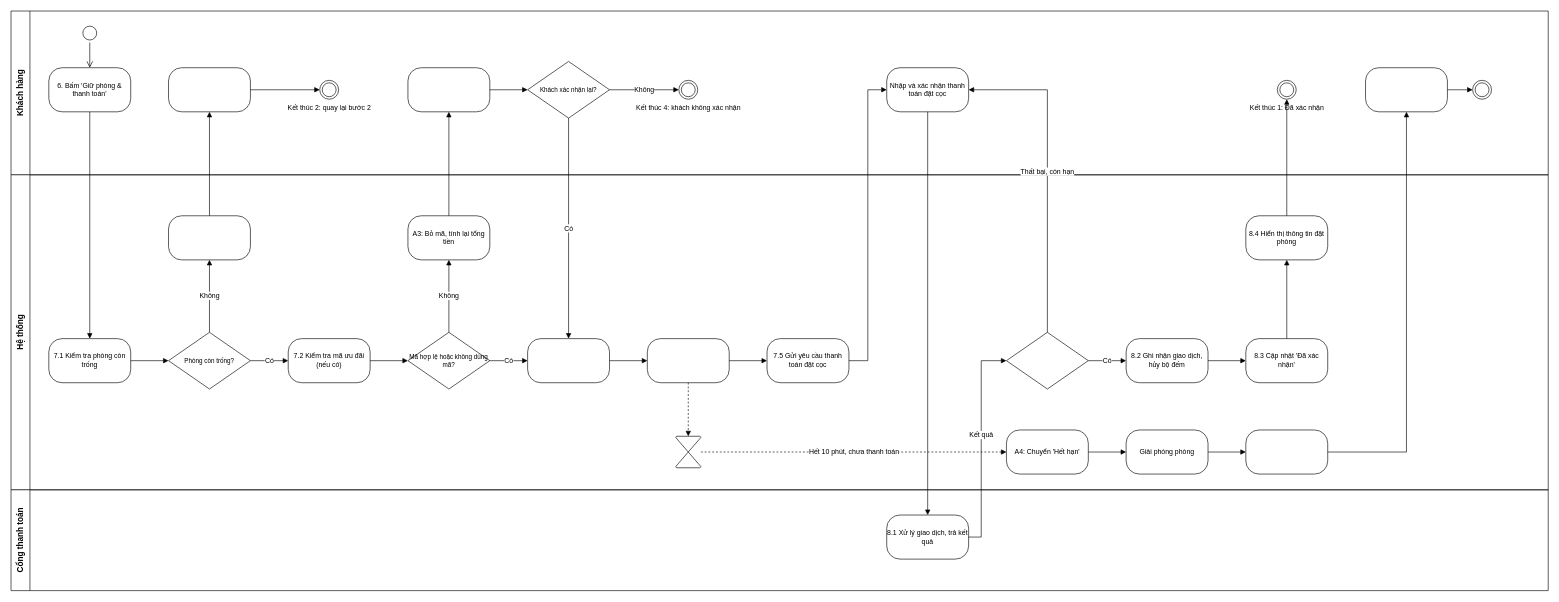
This 1559x602 diagram has some shape labels left out. Each missing label, with the centre of its shape:
7.3 Tạo lượt đặt 'Chờ đặt cọc', giữ phòng: the point at 568,360
7.4 Đặt expires_at = +10 phút, khởi động bộ đếm: the point at 688,360
A2: Báo phòng không còn trống, làm mới danh sách: the point at 209,237
Bộ đếm 10 phút: the point at 688,452
Gửi thông báo hết hạn: the point at 1286,451
Kết thúc 3: Hết hạn: the point at 1482,89
Thanh toán thành công?: the point at 1047,360
Xem thông báo hết hạn: the point at 1406,89
Xem thông báo, chọn lại phòng (quay lại bước 2): the point at 209,89
Xem tổng tiền mới: the point at 448,89
